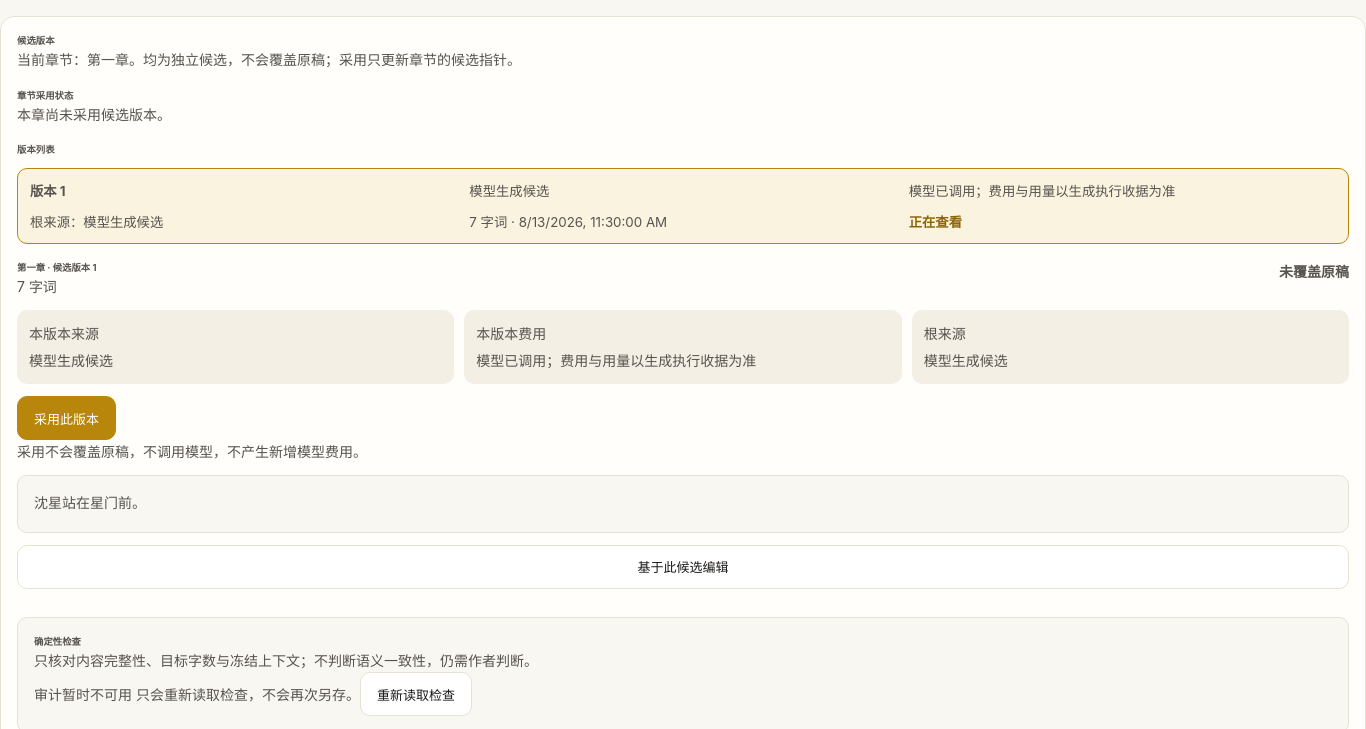
CandidateVersionWorkspace › saves v6 before one selection POST and clears only after strict current confirmation
Click the button "采用此版本": x=66, y=418 [17,396,116,440]
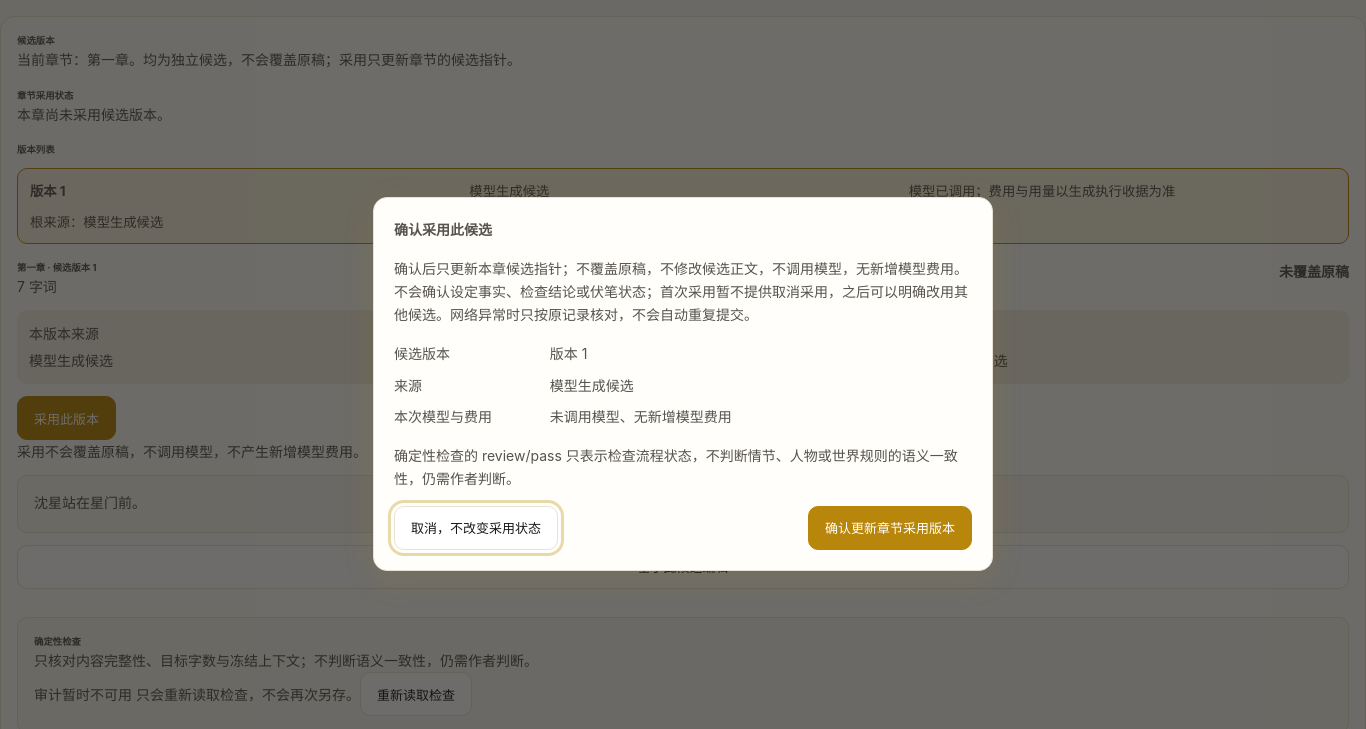
Result: the dialog "确认采用此候选" is shown at [373,197,993,571]
Result: the dialog "确认采用此候选" shows "未调用模型、无新增模型费用" at [550,408,732,425]
Result: the dialog "确认采用此候选" shows "不修改候选正文" at [394,260,968,323]
Click the button "取消，不改变采用状态": x=476, y=528 [394,506,558,550]
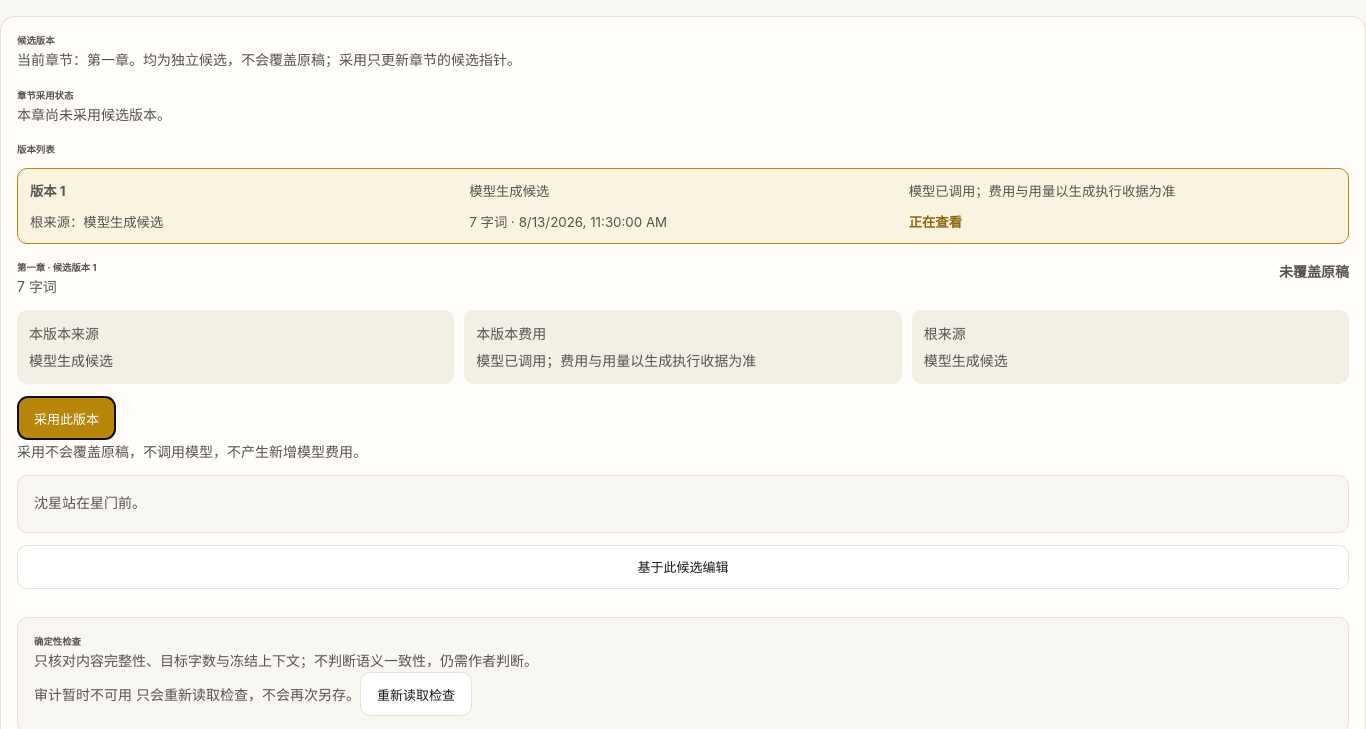
Click the button "采用此版本": x=66, y=418 [17,396,116,440]
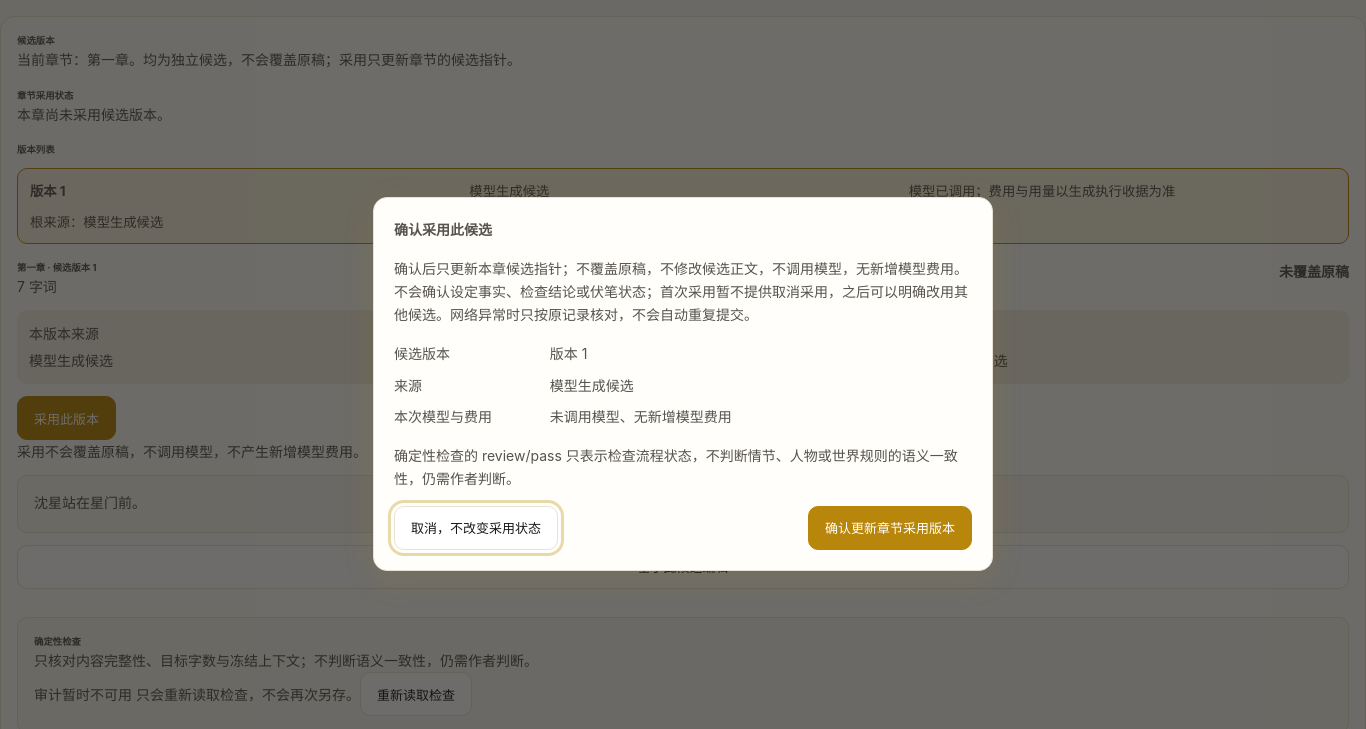
Click the button "确认更新章节采用版本": x=890, y=528 [808,506,972,550]
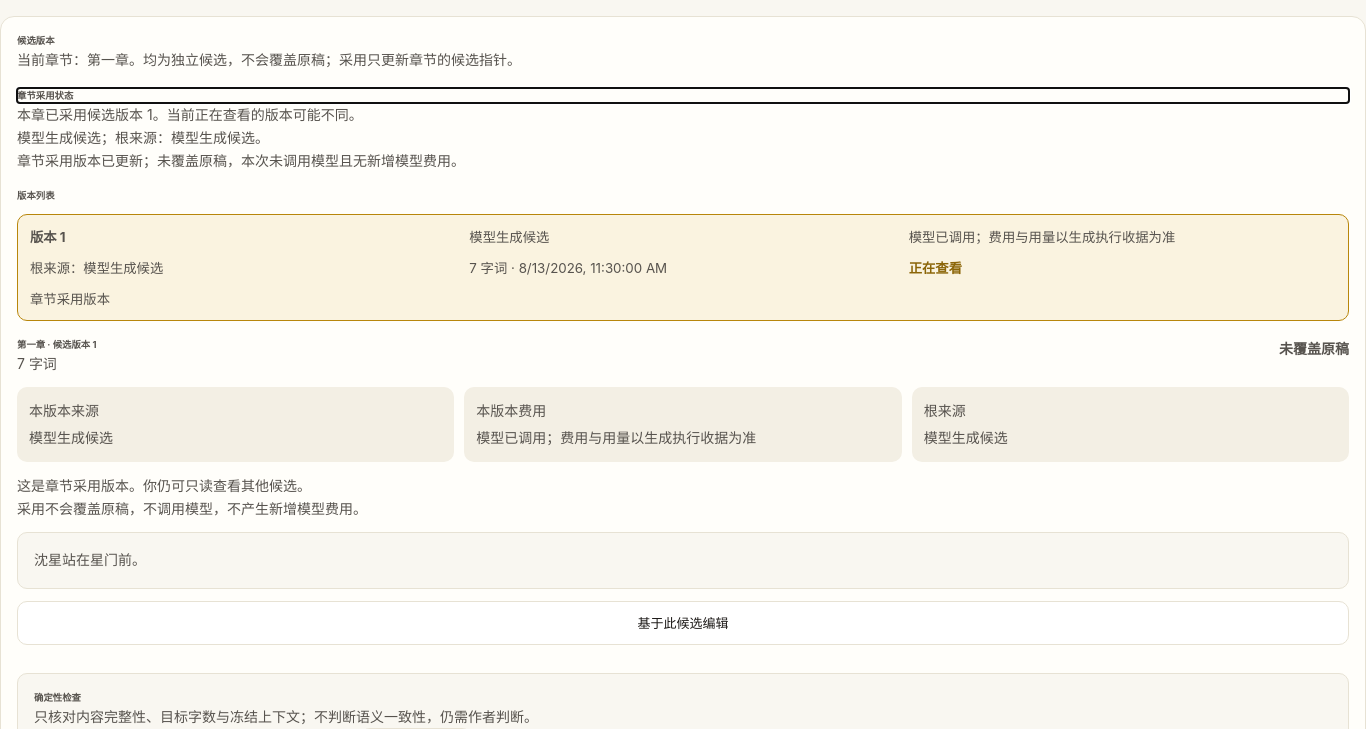
Result: the text "章节采用版本" is shown at [30,291,110,307]
Result: the text "章节采用版本已更新；未覆盖原稿，本次未调用模型且无新增模型费用。" is shown at [17,152,465,169]
